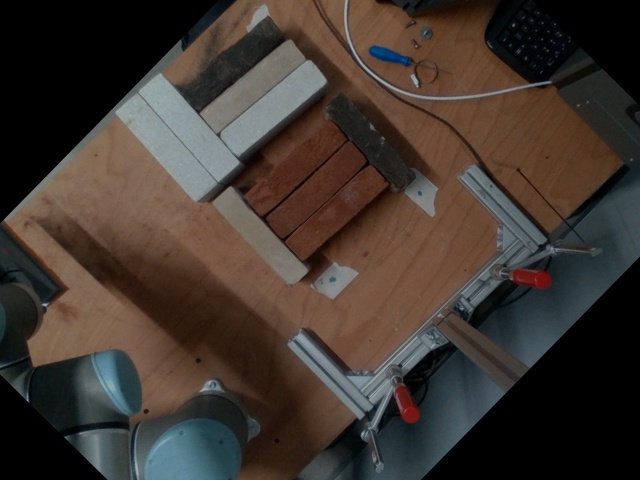brick-side: (117, 94, 215, 201), (140, 73, 238, 179), (242, 119, 348, 217), (263, 140, 369, 238), (177, 15, 285, 111), (284, 162, 389, 260), (219, 59, 327, 154), (210, 184, 309, 287), (199, 39, 306, 134), (322, 91, 417, 193)
